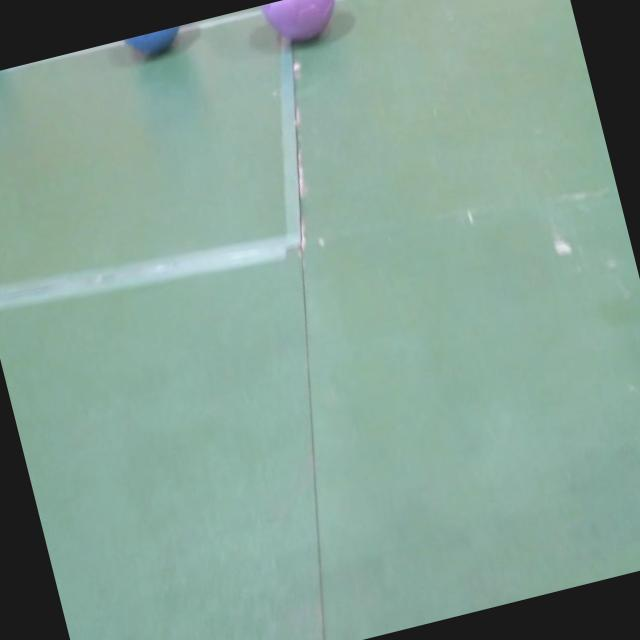blue_ball: (122, 24, 190, 64)
purple_ball: (259, 0, 347, 50)
